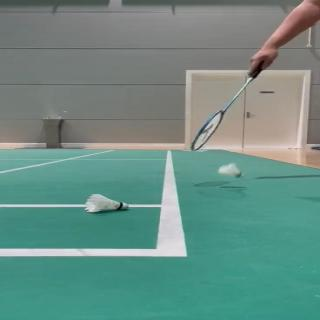Shuttle: (84, 194, 129, 213), (218, 163, 245, 178)
